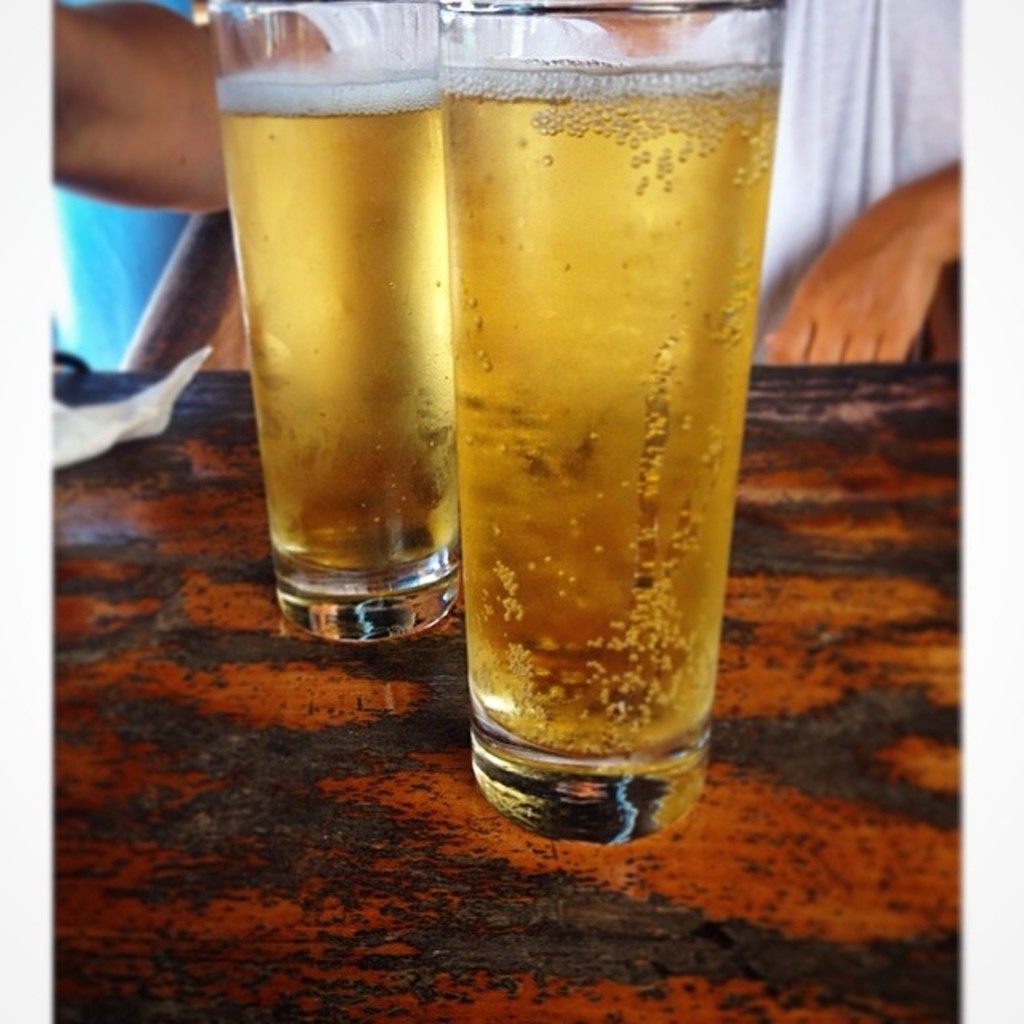Beer: (435, 68, 788, 764), (214, 0, 457, 638)
